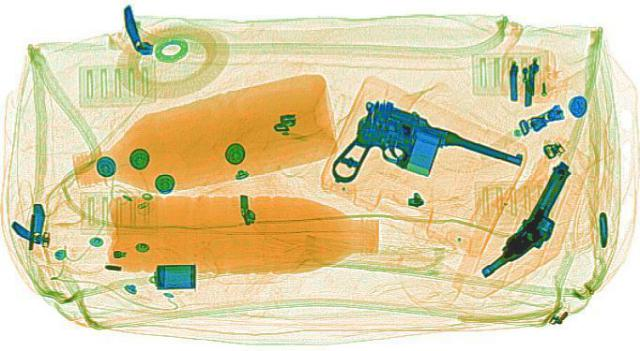Gun: (276, 90, 542, 219), (476, 157, 584, 280)
